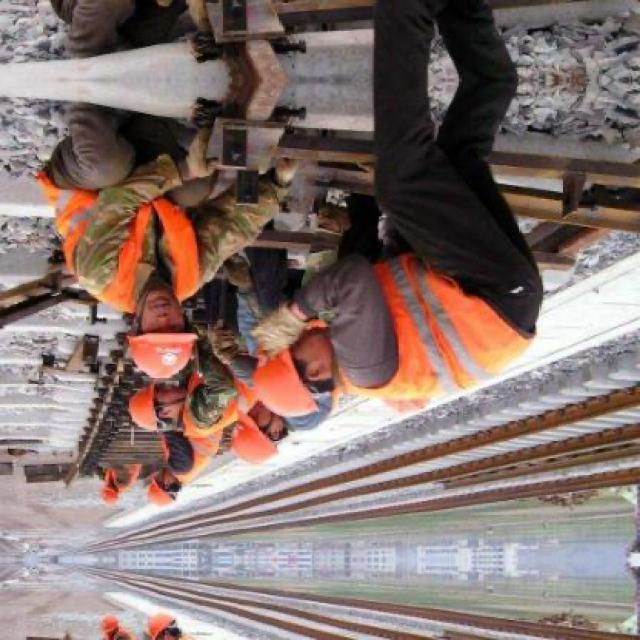con casco: (46, 257, 230, 402), (129, 442, 228, 541), (272, 313, 343, 433), (137, 379, 232, 464), (238, 381, 305, 460)
